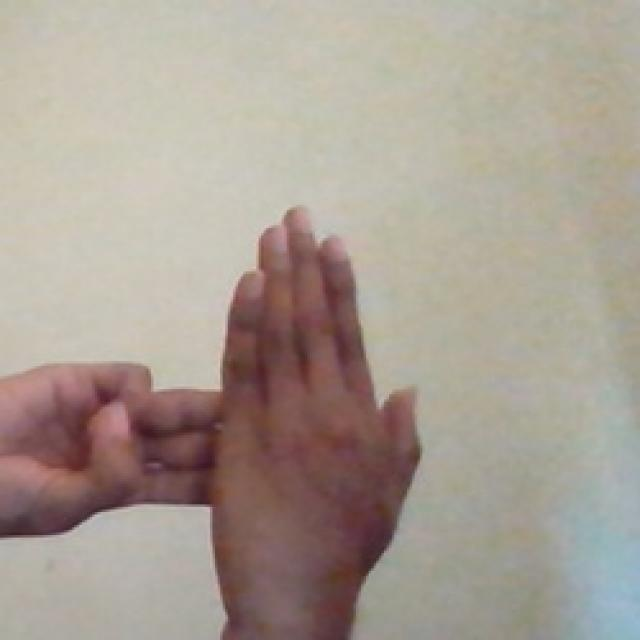Alphabet-M: (0, 197, 438, 640)
